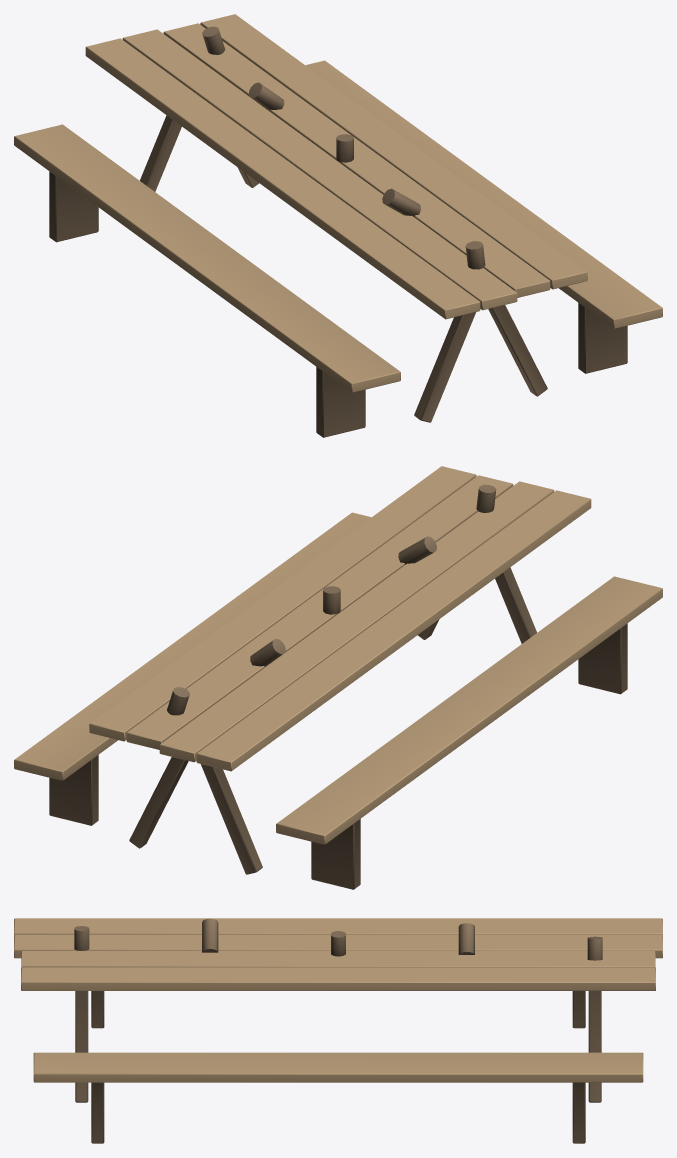
Rendered from dh_table.glb.
3 views of the same model, one above another, from view 1: azimuth 30°, elevation 25°; view 2: azimuth 150°, elevation 25°; view 3: azimuth 270°, elevation 25° (orthographic). The views are drawn at different scales.
Parts seen in each view (by area): view 1: dh_table; view 2: dh_table; view 3: dh_table.
Part boxes in pixels (bbox=[...]): dh_table: bbox=[14, 14, 662, 437]; dh_table: bbox=[14, 466, 662, 889]; dh_table: bbox=[14, 918, 662, 1143].
Bounding box in the file's own units: 2.02 × 1.05 × 4.05.
